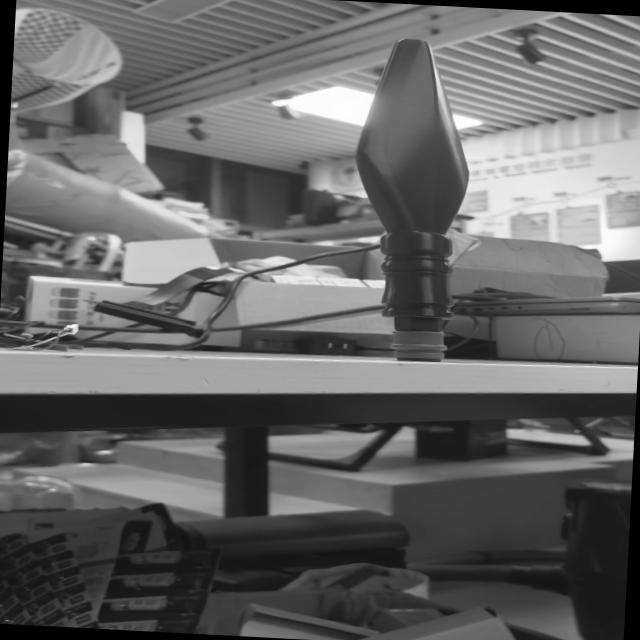base: (386, 326, 451, 367)
